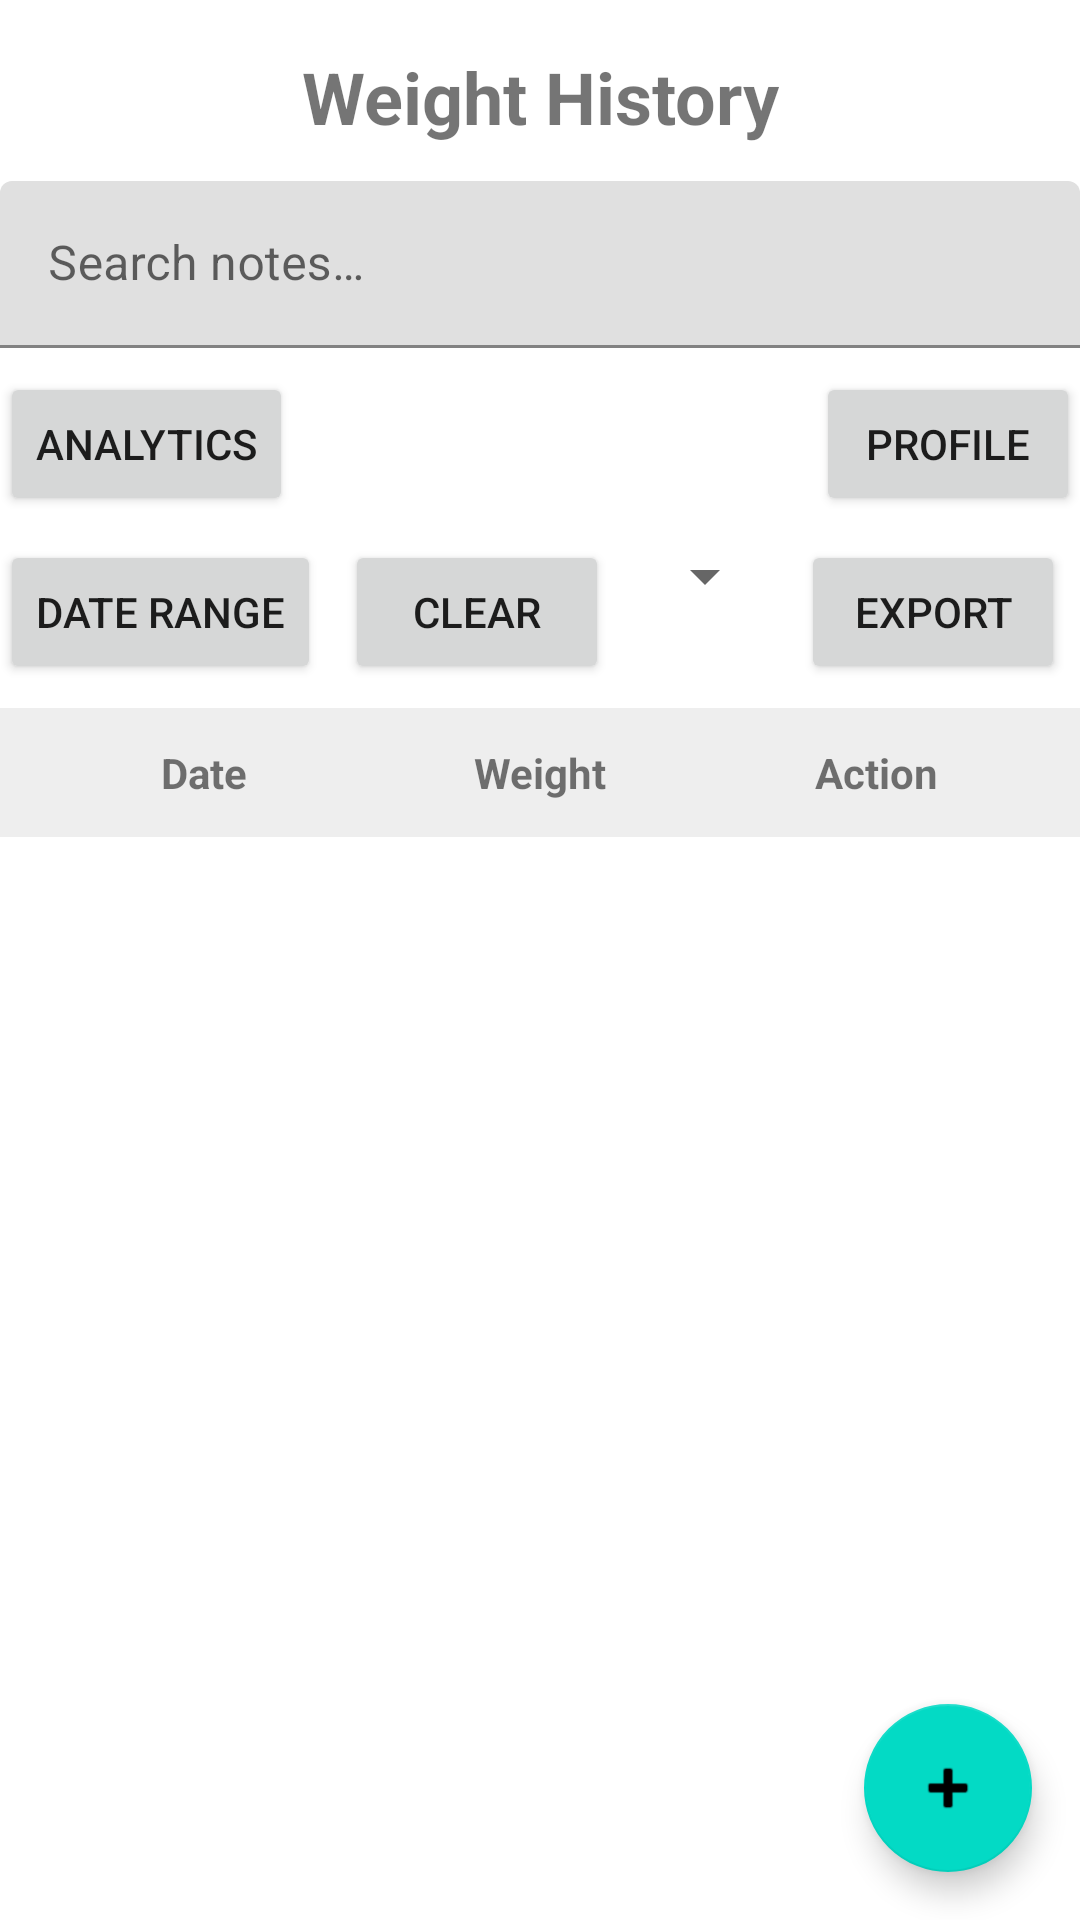

Screen size 1080*1920. Icon name, then its center in pixels as point (x, y):
Add Entry: point (948, 1788)
